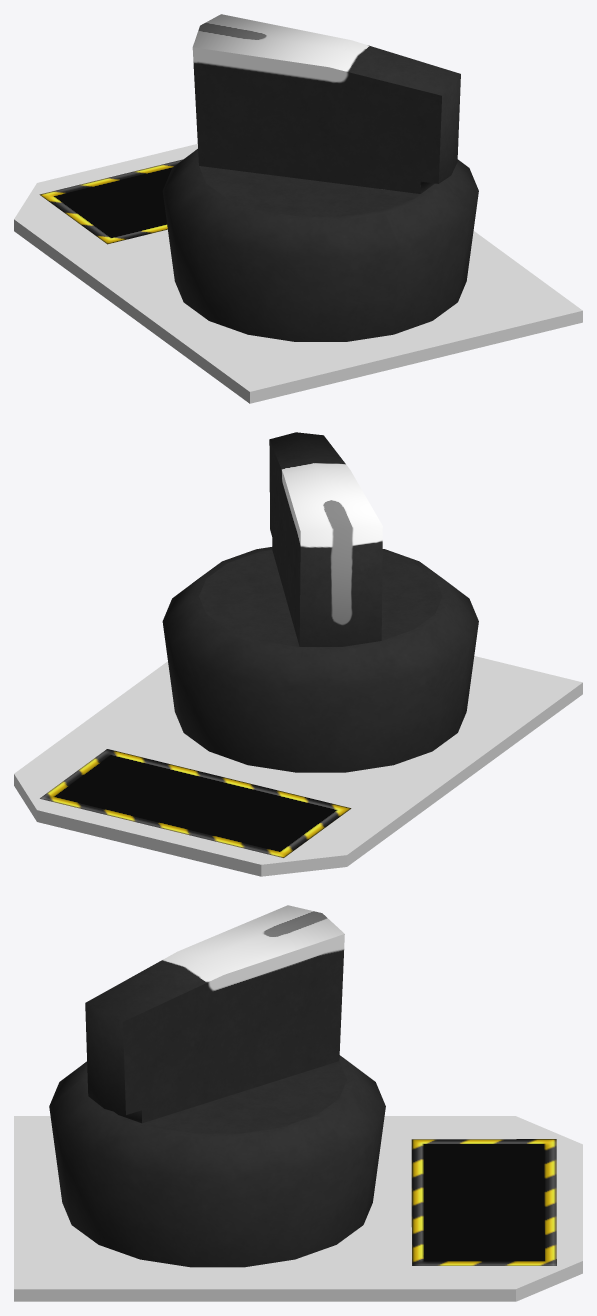
File: Plastic_Switch.glb
The picture shows the model from 3 angles, top to bottom: view 1: azimuth 30°, elevation 25°; view 2: azimuth 150°, elevation 25°; view 3: azimuth 270°, elevation 25°; orthographic projection. The views are drawn at different scales.
Parts seen in each view (by area): view 1: Switch_Low.001, Plaque, Switch_Low; view 2: Plaque, Switch_Low, Switch_Low.001; view 3: Plaque, Switch_Low.001, Switch_Low.
Boxes of the visible parts, x1,y1,x2,y2 form: Switch_Low.001: [192, 14, 460, 216]; Plaque: [14, 144, 582, 403]; Switch_Low: [162, 149, 478, 341]; Plaque: [14, 656, 582, 876]; Switch_Low: [162, 547, 478, 772]; Switch_Low.001: [199, 432, 442, 646]; Plaque: [14, 1116, 582, 1301]; Switch_Low.001: [85, 905, 346, 1133]; Switch_Low: [49, 1055, 385, 1267].
Size of the model in its own units: 0.0524 by 0.0374 by 0.0729.
3 materials, 3 textured.
